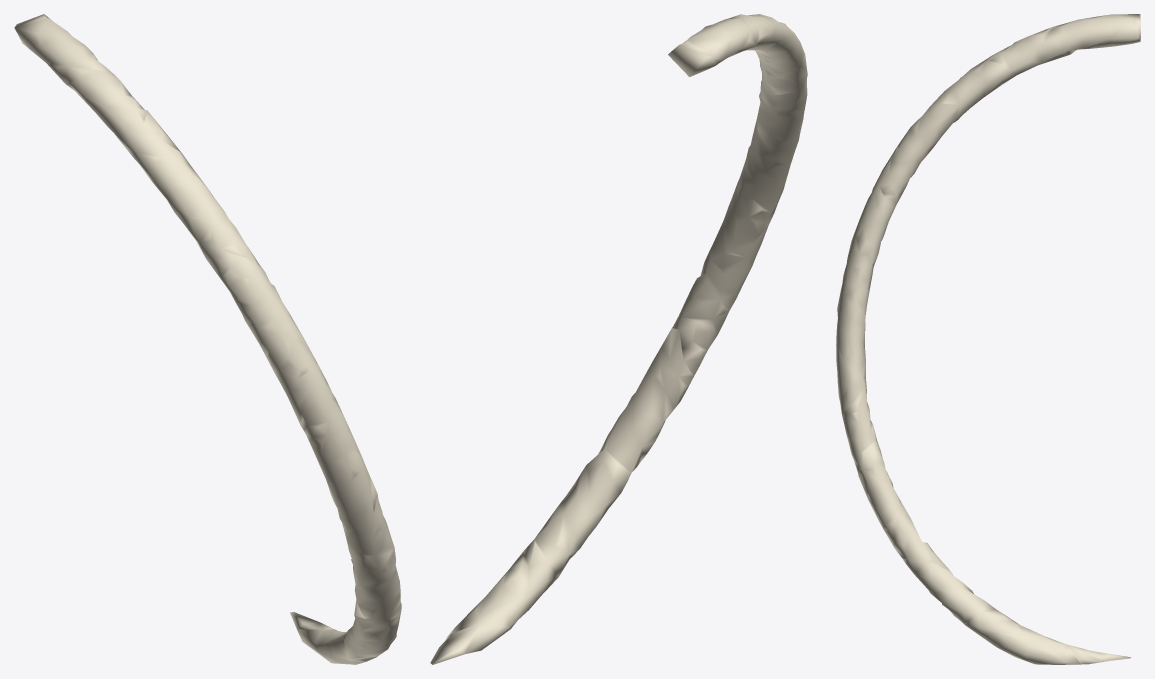
Rendered from rib_4_l.glb.
The picture shows the model from 3 angles, left to right: view 1: azimuth 30°, elevation 25°; view 2: azimuth 150°, elevation 25°; view 3: azimuth 270°, elevation 25°; orthographic projection. The views are drawn at different scales.
Visible parts, largest first — view 1: geometry_0; view 2: geometry_0; view 3: geometry_0.
Boxes of the visible parts, <box> form: geometry_0: <box>14,14,401,664</box>; geometry_0: <box>430,14,807,664</box>; geometry_0: <box>836,14,1140,664</box>.
Bounding box in the file's own units: 0.247 × 0.5369 × 0.2731.
